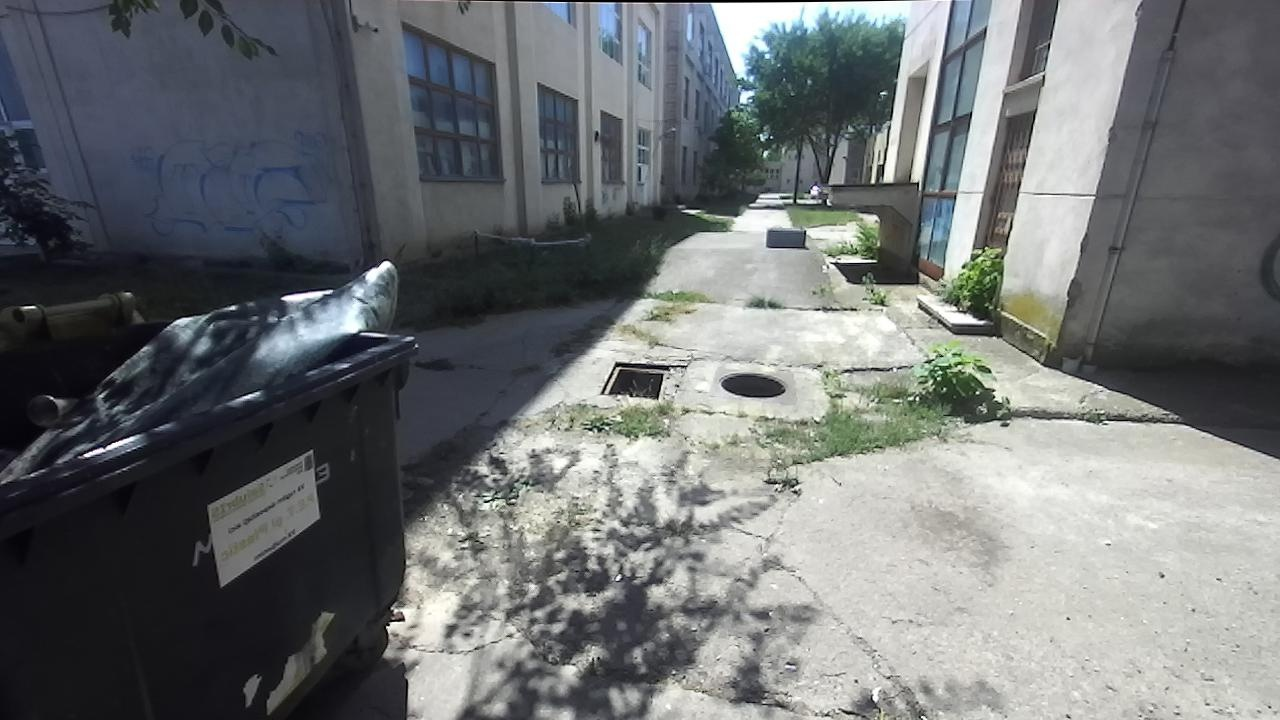drain: (592, 360, 669, 403), (713, 363, 793, 400)
